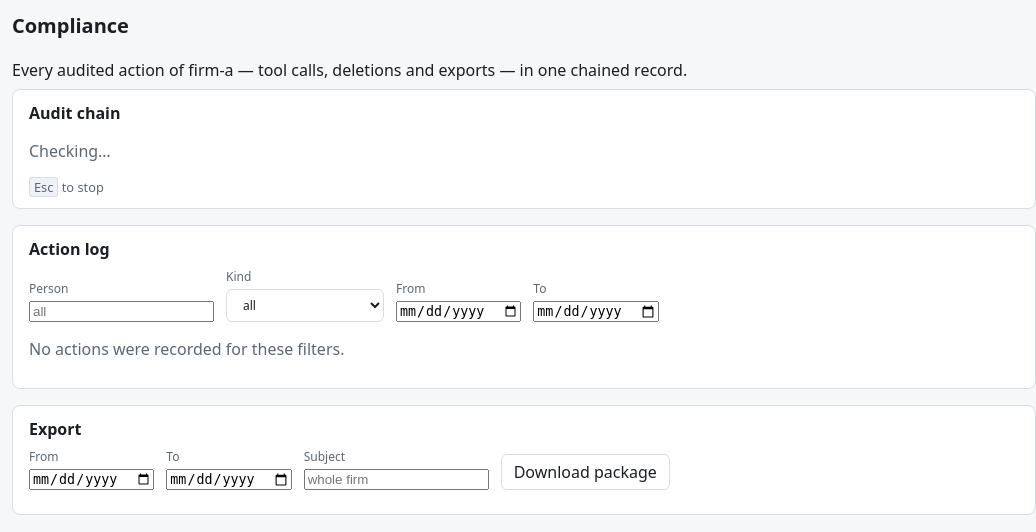
long reads stop on Esc › the compliance export, which downloads nothing
Press Escape
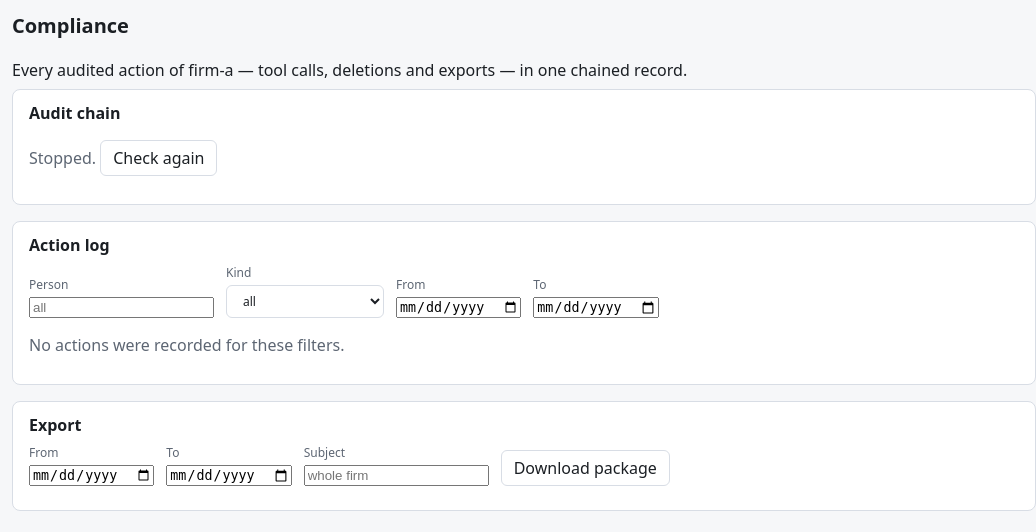
Expected: the message "Stopped. Check again" is shown, x1=29 y1=140 x2=218 y2=176
Click the button "Download package".
click(585, 468)  # box x1=501 y1=450 x2=670 y2=486
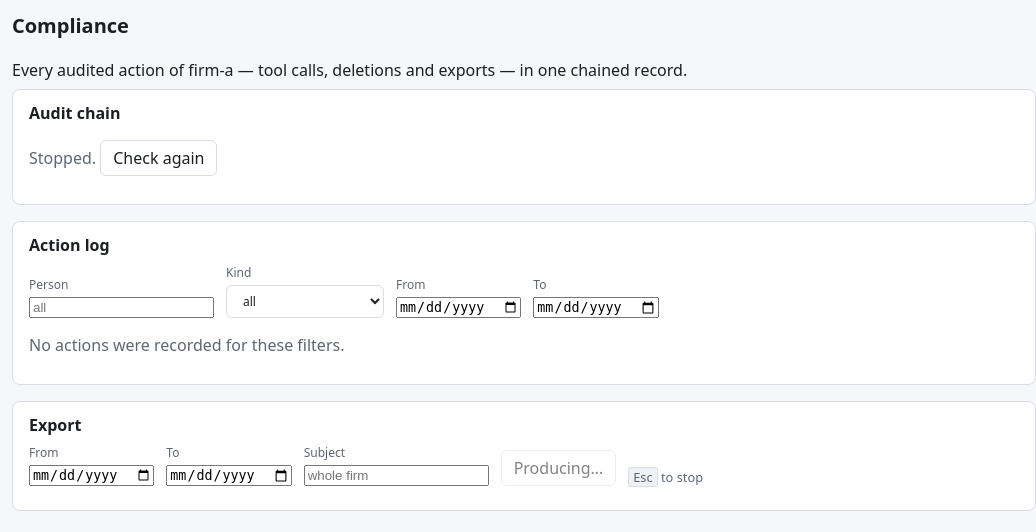
Press Escape
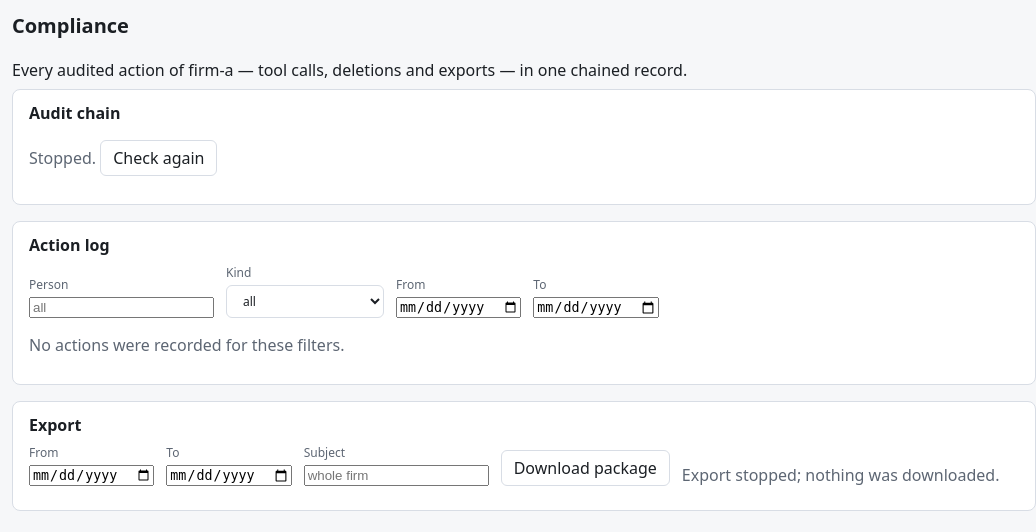
Expected: the message with test id "export-stopped" shows "nothing was downloaded", x1=682 y1=464 x2=999 y2=486
